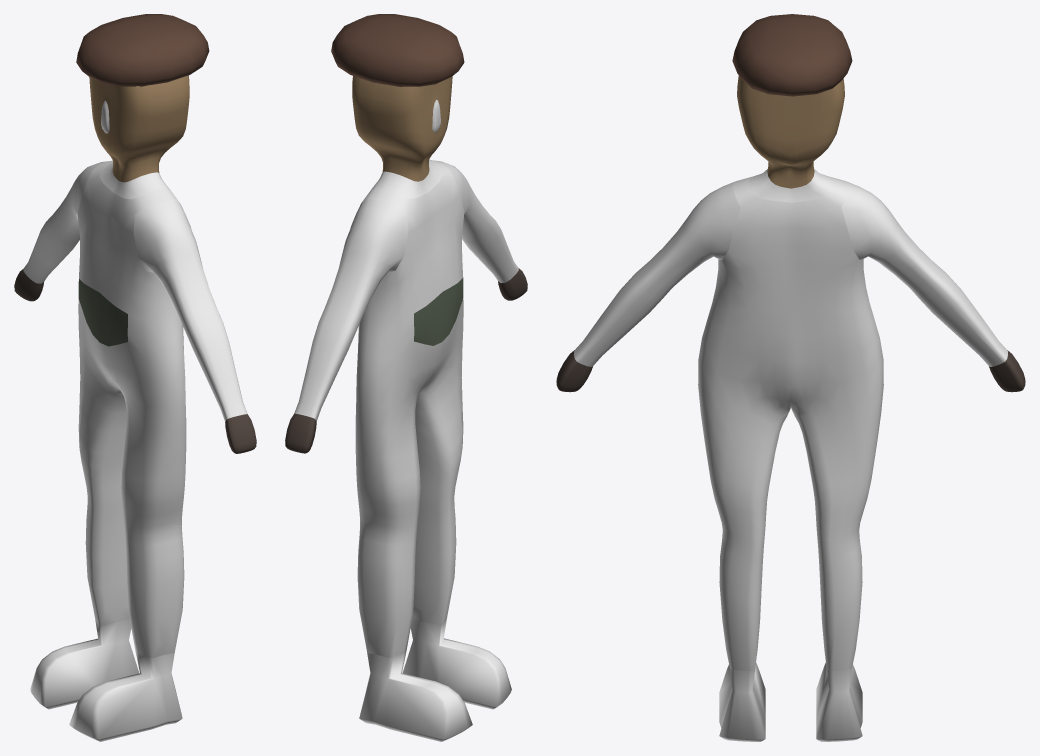
Rendered from mens.fbx.
3 renders of one model, left to right at view 1: azimuth 30°, elevation 25°; view 2: azimuth 150°, elevation 25°; view 3: azimuth 270°, elevation 25°, orthographic. The views are drawn at different scales.
Visible parts, largest first — view 1: Cube.014; view 2: Cube.014; view 3: Cube.014.
Part boxes in pixels (x1=…): Cube.014: x1=14, y1=14, x2=256, y2=741; Cube.014: x1=285, y1=14, x2=527, y2=741; Cube.014: x1=556, y1=14, x2=1025, y2=741.
Bounding box in the file's own units: 97.05 × 425 × 254.
